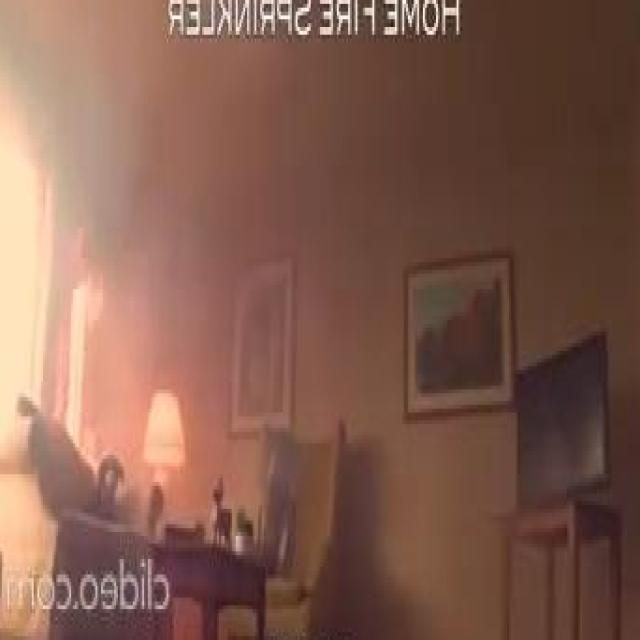smoke: (68, 282, 98, 470)
